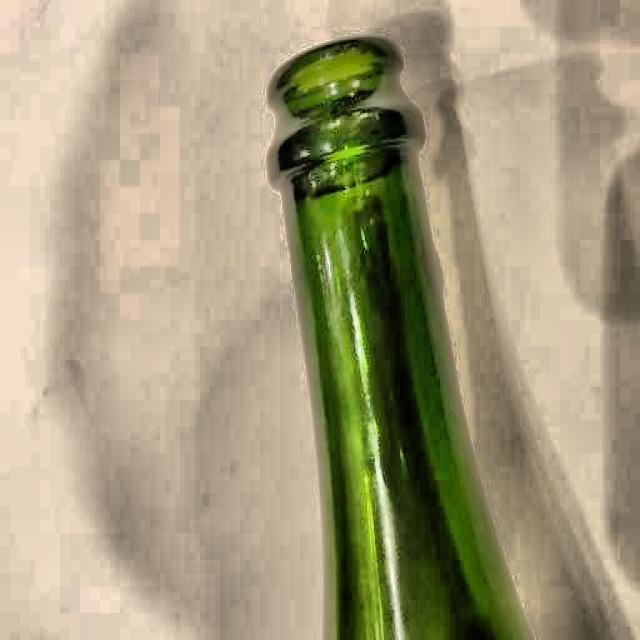glass: (255, 28, 542, 640)
